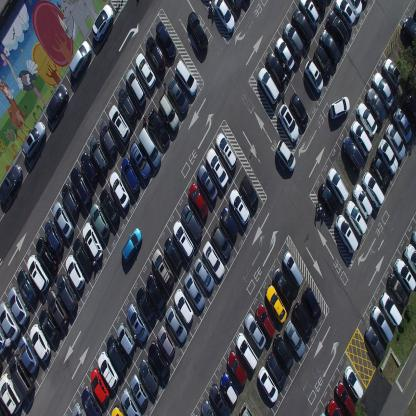car: (8, 352, 36, 400), (21, 120, 46, 160), (151, 247, 174, 290), (147, 339, 170, 382), (68, 39, 92, 80), (138, 126, 161, 168), (0, 162, 23, 204), (272, 267, 296, 307), (69, 166, 92, 207), (0, 373, 23, 414), (277, 102, 300, 143), (45, 290, 69, 329), (6, 286, 30, 325), (45, 83, 69, 122), (206, 147, 228, 189), (186, 10, 208, 52), (265, 283, 287, 325), (201, 240, 224, 280), (107, 103, 130, 143), (55, 272, 78, 312), (91, 3, 114, 43), (335, 214, 358, 254), (370, 305, 394, 343), (125, 66, 147, 107), (172, 219, 194, 260), (127, 303, 149, 344), (236, 331, 258, 372), (147, 107, 170, 146), (344, 199, 367, 238), (174, 59, 198, 96), (0, 300, 21, 342), (129, 141, 151, 181), (183, 272, 205, 312), (145, 273, 167, 313), (81, 221, 103, 261), (244, 311, 266, 351), (97, 350, 119, 390), (215, 132, 237, 172), (257, 66, 279, 106), (158, 91, 179, 132), (167, 77, 189, 116), (72, 236, 94, 275), (372, 71, 394, 110), (342, 136, 365, 173), (145, 33, 166, 73), (109, 170, 130, 210), (106, 335, 127, 375), (180, 203, 202, 241), (18, 336, 40, 374), (327, 166, 349, 204), (135, 50, 156, 89), (117, 85, 138, 124), (30, 322, 51, 361), (156, 21, 177, 60), (165, 306, 187, 343), (16, 269, 38, 306), (26, 254, 48, 291), (36, 237, 58, 274), (265, 51, 287, 88), (319, 27, 341, 64), (292, 8, 314, 45), (284, 320, 306, 357), (362, 171, 384, 208), (350, 119, 372, 156), (356, 101, 378, 138), (394, 257, 416, 294), (136, 286, 156, 326), (196, 163, 217, 201), (173, 288, 194, 326), (273, 333, 294, 371), (377, 137, 398, 175), (37, 308, 59, 344), (120, 227, 142, 263), (282, 250, 304, 286), (387, 272, 409, 308), (120, 156, 140, 195), (210, 223, 231, 260), (187, 182, 208, 219), (228, 188, 249, 225), (255, 302, 276, 339), (52, 201, 73, 238), (99, 188, 120, 225), (327, 11, 348, 48), (352, 182, 373, 219), (138, 357, 160, 392), (213, 0, 235, 35), (380, 291, 402, 326), (65, 253, 85, 291), (288, 91, 308, 129), (293, 300, 313, 338), (258, 366, 278, 404), (366, 86, 386, 124), (386, 123, 406, 161), (274, 36, 295, 72), (99, 119, 118, 158), (89, 136, 109, 173), (227, 349, 247, 386), (90, 368, 110, 405), (370, 153, 390, 190), (365, 324, 385, 361), (275, 138, 296, 173), (334, 380, 355, 415), (209, 382, 231, 415), (240, 174, 260, 210), (90, 204, 110, 240), (266, 352, 286, 388), (283, 23, 304, 57), (304, 58, 323, 95), (393, 107, 412, 144), (318, 182, 338, 217), (303, 285, 321, 323), (193, 258, 213, 292), (129, 373, 149, 407), (382, 56, 402, 90), (314, 45, 333, 80), (298, 0, 320, 30), (334, 0, 356, 30), (163, 236, 182, 270), (157, 324, 176, 358), (116, 322, 135, 356), (61, 182, 80, 216), (44, 220, 63, 254), (344, 365, 363, 399), (80, 386, 102, 415), (219, 206, 237, 241), (220, 370, 238, 405), (120, 387, 142, 415), (80, 151, 98, 185), (329, 96, 350, 119), (404, 92, 416, 130), (404, 242, 416, 278), (403, 15, 415, 46), (347, 0, 364, 19), (326, 398, 342, 416), (201, 400, 216, 416), (238, 402, 255, 415), (0, 326, 7, 356), (313, 0, 327, 14), (71, 402, 86, 415), (226, 0, 242, 12), (110, 404, 124, 415), (410, 227, 416, 249), (319, 411, 327, 415)
